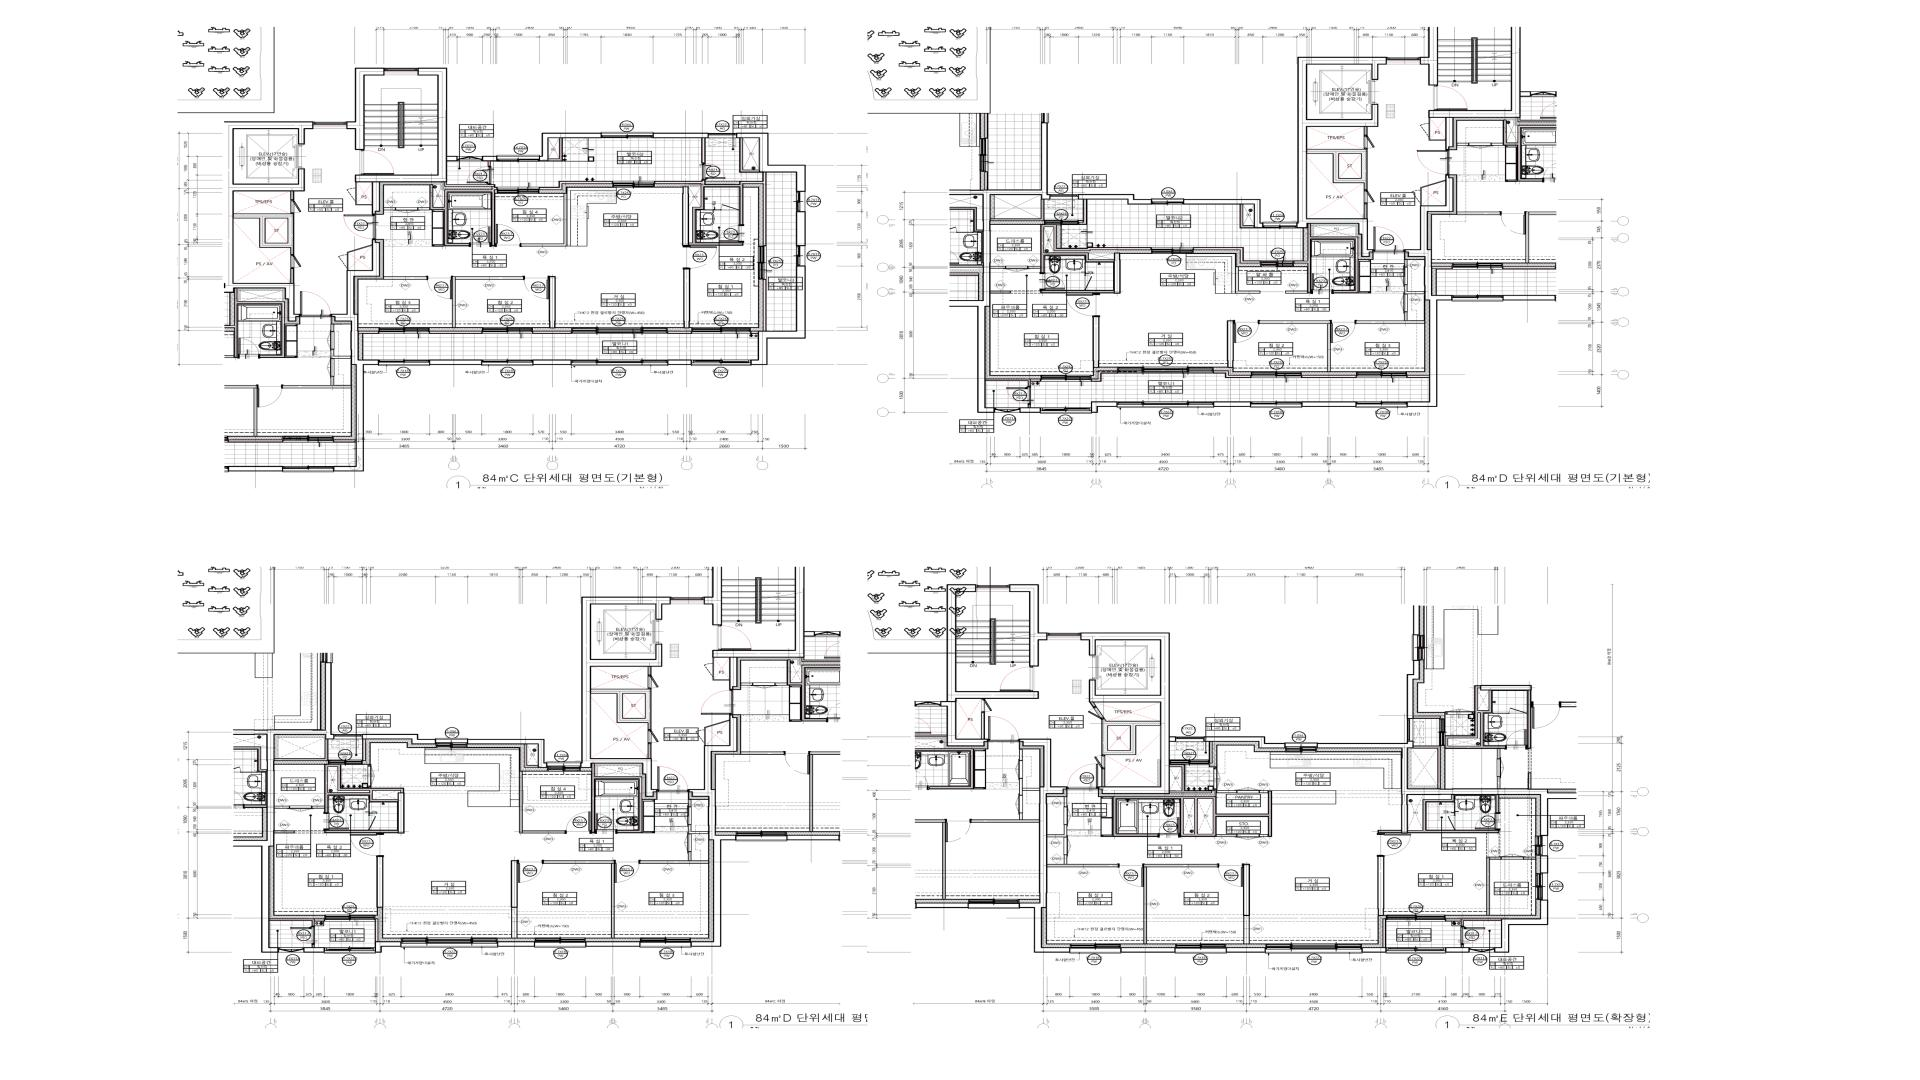door: (360, 149, 394, 175), (657, 766, 688, 793), (719, 625, 752, 650), (343, 215, 376, 240), (1433, 86, 1468, 109), (1377, 833, 1411, 857), (1000, 667, 1034, 691), (683, 245, 717, 269), (1068, 764, 1098, 790), (351, 833, 384, 857), (1374, 227, 1404, 252), (1067, 294, 1100, 316), (615, 860, 641, 884), (517, 860, 543, 884), (1118, 864, 1145, 887), (1234, 320, 1259, 344), (1217, 864, 1242, 887), (427, 276, 452, 299), (524, 276, 549, 299), (1331, 320, 1357, 343), (564, 811, 591, 833), (496, 224, 521, 247), (323, 812, 349, 831), (1311, 273, 1333, 294), (1006, 386, 1031, 405), (1461, 926, 1486, 944), (719, 224, 744, 243), (465, 166, 491, 185), (1039, 273, 1065, 290), (1158, 818, 1180, 837), (469, 227, 492, 247), (595, 814, 617, 833), (290, 927, 315, 944), (1476, 812, 1501, 829), (702, 164, 725, 181), (1087, 707, 1105, 721), (1213, 767, 1221, 790), (1364, 135, 1375, 149), (1364, 190, 1375, 204), (1093, 754, 1105, 769), (981, 699, 993, 712), (290, 255, 302, 268), (647, 729, 658, 744), (290, 806, 313, 812), (368, 765, 375, 787), (1502, 853, 1524, 860), (1237, 787, 1259, 794), (396, 207, 418, 214), (647, 675, 658, 688), (290, 200, 301, 214), (720, 204, 738, 211), (1006, 266, 1029, 272), (1237, 835, 1259, 840), (1084, 276, 1092, 290), (368, 815, 376, 829), (1448, 815, 1456, 829)
wall: (1316, 742, 1548, 836), (1298, 57, 1387, 257), (582, 596, 671, 796), (224, 121, 314, 322), (977, 190, 1051, 413), (261, 731, 335, 953), (1080, 632, 1176, 794), (945, 584, 1039, 746), (355, 67, 458, 214), (1428, 4, 1522, 150), (712, 543, 804, 690), (1404, 174, 1453, 407), (688, 715, 737, 947), (1019, 738, 1071, 953), (654, 173, 766, 247), (1113, 791, 1273, 837), (331, 239, 380, 365), (1143, 864, 1217, 945), (750, 266, 806, 365), (543, 861, 615, 938), (1040, 224, 1151, 273), (1294, 224, 1358, 294), (430, 182, 497, 247), (736, 133, 806, 193), (324, 765, 404, 812), (1259, 320, 1331, 372), (591, 764, 642, 833), (452, 277, 524, 327), (1407, 795, 1498, 833), (347, 67, 385, 150), (1420, 4, 1458, 86), (1009, 584, 1047, 666), (704, 543, 742, 625), (520, 771, 566, 833), (1494, 901, 1548, 953), (591, 688, 651, 729), (233, 214, 294, 255), (521, 194, 567, 247), (467, 738, 547, 767), (1184, 199, 1263, 228), (1101, 719, 1160, 754), (539, 133, 601, 162), (1170, 764, 1212, 794), (990, 199, 1044, 222), (1193, 247, 1261, 264), (274, 740, 328, 761), (326, 767, 369, 793), (1204, 737, 1286, 749), (1047, 855, 1118, 868), (1486, 857, 1502, 915), (1356, 311, 1424, 324), (641, 852, 708, 864), (1077, 194, 1153, 204), (361, 735, 436, 745), (1236, 266, 1261, 294), (539, 181, 613, 190), (740, 138, 760, 173), (1242, 864, 1250, 944), (704, 720, 729, 745), (510, 860, 518, 939), (622, 694, 645, 719), (1197, 799, 1213, 833), (265, 219, 287, 243), (1358, 260, 1371, 294), (1092, 316, 1100, 368), (355, 182, 372, 206), (376, 857, 384, 907), (683, 269, 690, 328), (712, 658, 729, 680), (1302, 401, 1357, 407), (986, 378, 1031, 386), (549, 276, 555, 328), (1240, 204, 1254, 228), (549, 138, 563, 162), (1091, 401, 1118, 413), (1091, 371, 1118, 382), (796, 211, 806, 247), (524, 745, 538, 767), (397, 793, 405, 833), (375, 942, 401, 953), (1378, 857, 1383, 915), (683, 187, 688, 245), (1213, 371, 1251, 378), (269, 919, 314, 926), (1040, 290, 1114, 294), (324, 829, 398, 833), (585, 942, 641, 947), (653, 133, 708, 138), (1121, 948, 1175, 953), (429, 360, 483, 365), (1114, 253, 1121, 294), (1226, 947, 1266, 953), (1461, 919, 1501, 926), (1047, 824, 1067, 837), (1228, 320, 1233, 368), (1079, 199, 1088, 225), (1213, 402, 1251, 407), (497, 942, 535, 947), (533, 360, 571, 365), (688, 825, 708, 835), (1404, 285, 1424, 294), (1445, 947, 1470, 953), (1362, 947, 1387, 953), (1302, 376, 1357, 378), (429, 331, 483, 334), (303, 947, 324, 953), (764, 280, 766, 331), (1540, 856, 1548, 873), (667, 360, 692, 365), (1382, 919, 1386, 948), (384, 277, 427, 280), (1019, 407, 1040, 413), (533, 331, 572, 334), (981, 712, 985, 738), (702, 138, 705, 164), (1378, 829, 1402, 833), (375, 919, 378, 942), (361, 740, 365, 761), (1209, 742, 1213, 764), (1286, 290, 1307, 294), (990, 290, 1010, 294), (483, 156, 497, 161), (1101, 769, 1105, 786), (1495, 795, 1499, 812), (667, 331, 692, 334), (1407, 376, 1429, 378), (647, 744, 651, 758), (290, 269, 294, 284), (1216, 790, 1237, 793), (274, 831, 295, 833), (359, 331, 378, 334), (1217, 835, 1237, 837), (418, 207, 430, 211), (384, 207, 396, 211), (990, 266, 1006, 269), (1445, 919, 1461, 922), (1031, 378, 1042, 382), (274, 806, 289, 808), (290, 191, 294, 200), (1029, 266, 1040, 269), (1101, 835, 1113, 837), (1089, 703, 1097, 707), (313, 806, 324, 808), (647, 667, 651, 675), (1524, 857, 1536, 860), (1404, 260, 1408, 268), (1064, 796, 1067, 807), (1259, 790, 1269, 793), (315, 919, 324, 922), (750, 331, 758, 334), (1259, 835, 1267, 837), (688, 799, 691, 807), (1101, 796, 1113, 798), (431, 245, 443, 247), (311, 944, 315, 947), (1027, 405, 1031, 407), (1461, 944, 1464, 947), (1079, 220, 1083, 222)
window: (401, 938, 497, 948), (1266, 944, 1362, 953), (1118, 367, 1213, 373), (572, 360, 667, 367), (572, 327, 667, 334), (534, 938, 585, 948), (641, 938, 691, 948), (1118, 402, 1213, 407), (1175, 944, 1226, 953), (1071, 944, 1121, 953), (1386, 915, 1445, 922), (1042, 375, 1091, 382), (1387, 947, 1445, 953), (692, 360, 750, 367), (692, 327, 750, 334), (1535, 873, 1548, 901), (601, 132, 653, 138), (324, 915, 375, 922), (324, 947, 375, 953), (1357, 372, 1407, 378), (1357, 401, 1407, 407), (1251, 372, 1302, 378), (1040, 407, 1091, 414), (378, 360, 429, 367), (483, 360, 533, 367), (378, 327, 429, 334), (483, 327, 533, 334), (547, 762, 582, 771), (436, 738, 467, 748), (1286, 742, 1316, 752), (1151, 248, 1193, 255), (497, 187, 539, 194), (497, 156, 539, 162), (613, 181, 654, 187), (1251, 402, 1302, 407), (1535, 836, 1548, 856), (1387, 57, 1420, 65), (758, 247, 766, 280), (385, 67, 418, 75), (314, 121, 345, 129), (1263, 222, 1298, 228), (1458, 4, 1491, 11), (1261, 261, 1294, 268), (742, 543, 775, 550), (671, 597, 704, 604), (1047, 633, 1080, 640), (976, 585, 1009, 592), (328, 760, 363, 765), (1044, 220, 1079, 225), (796, 247, 806, 265), (796, 193, 806, 211), (1153, 199, 1183, 204), (1170, 760, 1209, 764), (335, 735, 361, 740), (709, 133, 736, 138), (994, 407, 1019, 413), (280, 947, 303, 952), (458, 156, 481, 161), (1176, 737, 1204, 741), (1051, 195, 1077, 199), (1470, 948, 1494, 952)
